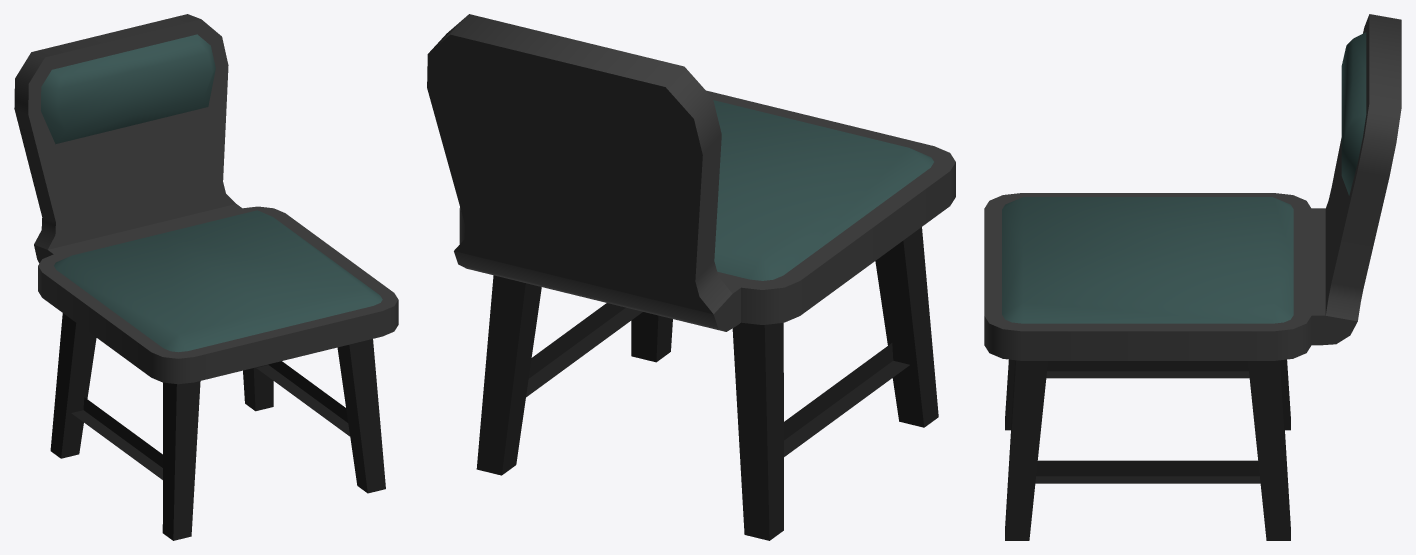
File: SO_OBJ_FBX_Chair_01.fbx
3 renders of one model, left to right at view 1: azimuth 30°, elevation 25°; view 2: azimuth 150°, elevation 25°; view 3: azimuth 270°, elevation 25°, orthographic. The views are drawn at different scales.
Parts seen in each view (by area): view 1: SO_OBJ_FBX_Chair_01; view 2: SO_OBJ_FBX_Chair_01; view 3: SO_OBJ_FBX_Chair_01.
Boxes of the visible parts, left/top/right/bottom form: SO_OBJ_FBX_Chair_01: left=14, top=14, right=398, bottom=540; SO_OBJ_FBX_Chair_01: left=427, top=14, right=955, bottom=540; SO_OBJ_FBX_Chair_01: left=984, top=14, right=1401, bottom=540.
Size of the model in its own units: 50 by 71.19 by 63.76.
